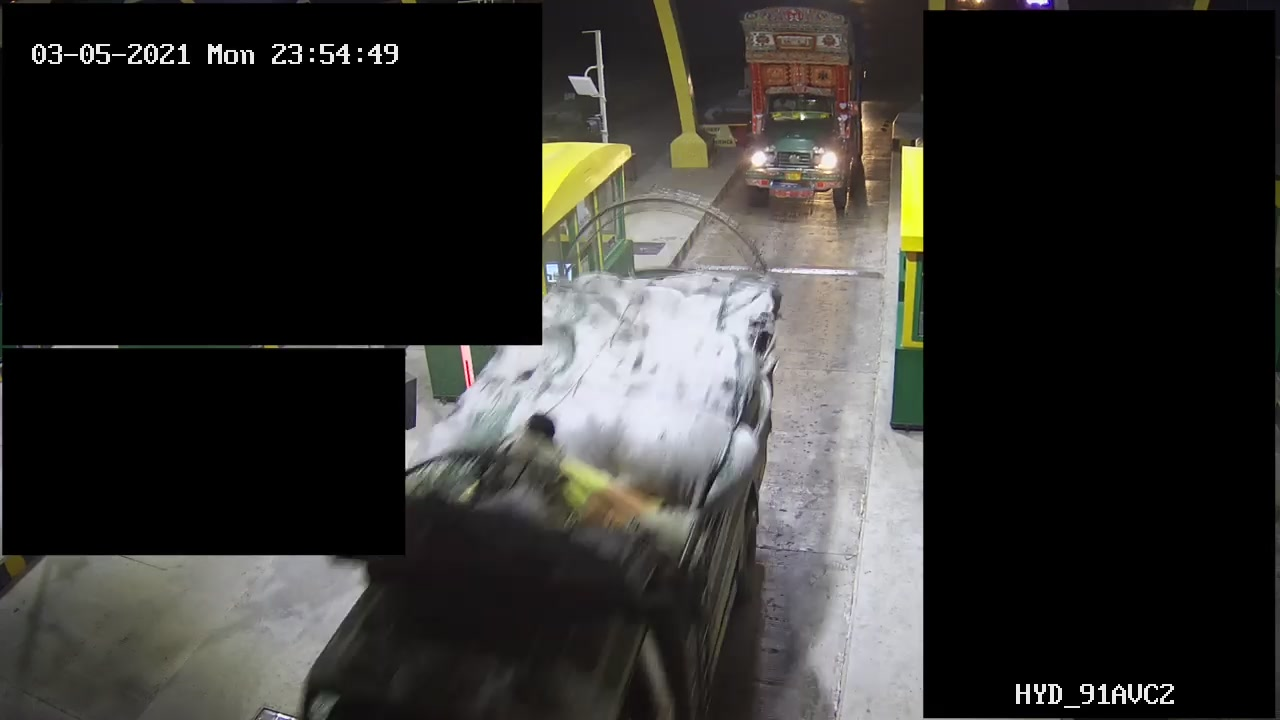F5: (744, 1, 865, 209)
